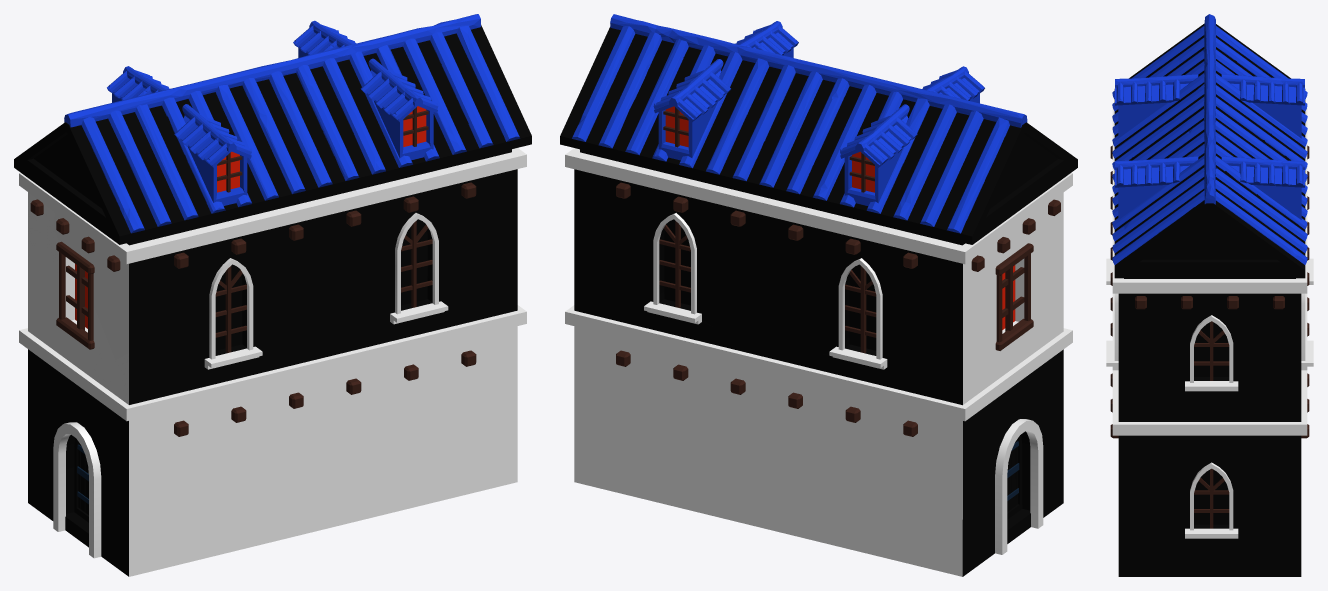
File: civilian_house_34_g.FBX
3 views of the same model, side by side, from view 1: azimuth 30°, elevation 25°; view 2: azimuth 150°, elevation 25°; view 3: azimuth 270°, elevation 25° (orthographic). The views are drawn at different scales.
Visible parts, largest first — view 1: civilian_house_34_g; view 2: civilian_house_34_g; view 3: civilian_house_34_g.
Boxes of the visible parts, left/top/right/bottom form: civilian_house_34_g: left=14, top=14, right=531, bottom=576; civilian_house_34_g: left=560, top=14, right=1077, bottom=576; civilian_house_34_g: left=1106, top=14, right=1313, bottom=576.
Size of the model in its own units: 1061 by 1054 by 511.
